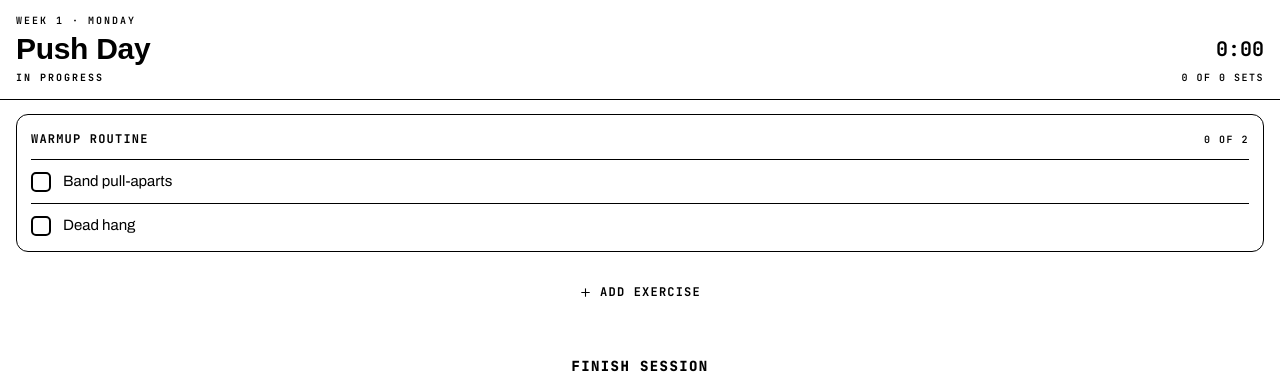
Test: GymSession — warmup routine checklist, real session › the card counts the ticked items ("1 OF 2", board W1) and a ticked item is struck through
Click the checkbox "Band pull-aparts": coordinates (118, 181) top-left (31, 159), bottom-right (1249, 203)
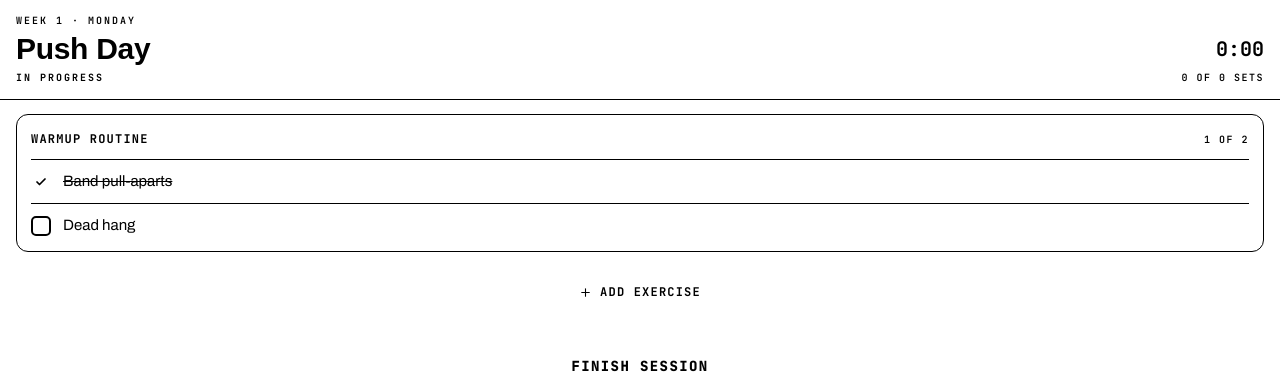
Expected: the text "1 OF 2" is shown, top-left (1204, 132), bottom-right (1249, 146)
Click the checkbox "Dead hang": coordinates (99, 225) top-left (31, 203), bottom-right (1249, 247)
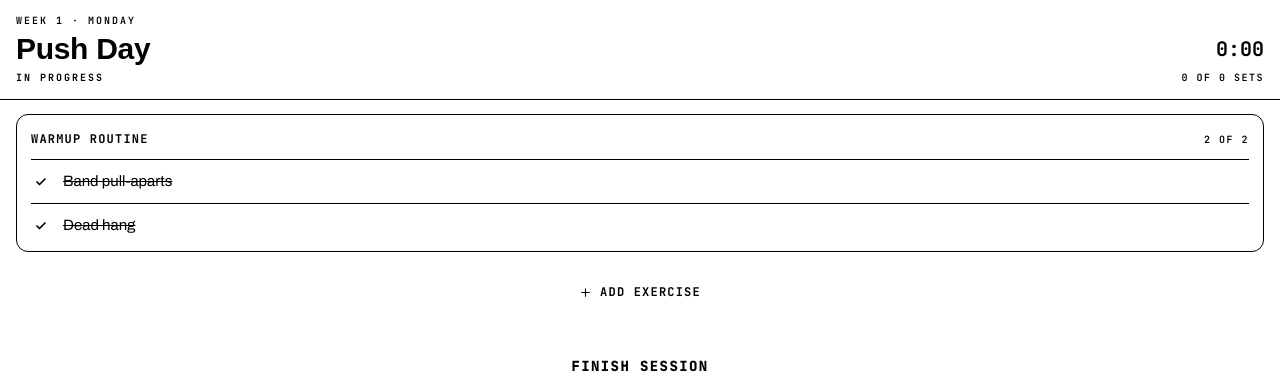
Expected: the text "2 OF 2" is shown, top-left (1204, 132), bottom-right (1249, 146)
Click the checkbox "Band pull-aparts": coordinates (118, 181) top-left (31, 159), bottom-right (1249, 203)
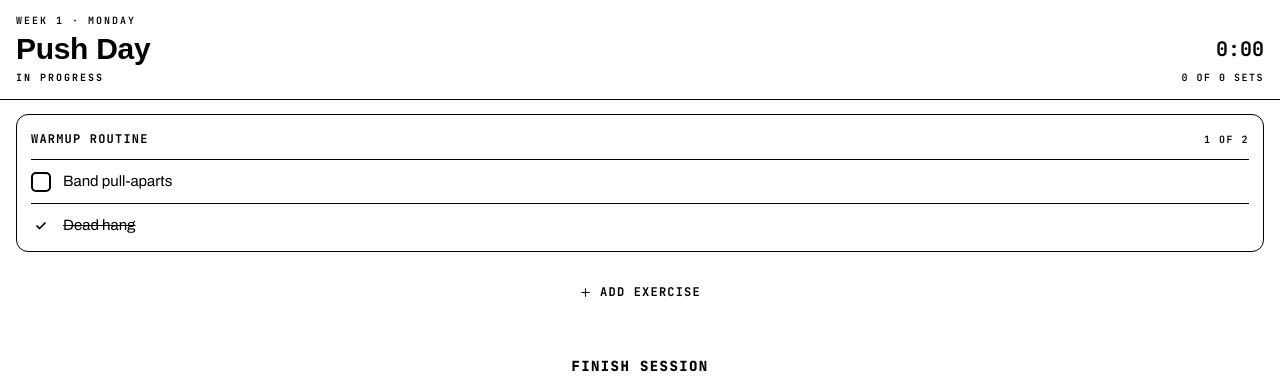
Expected: the text "1 OF 2" is shown, top-left (1204, 132), bottom-right (1249, 146)
